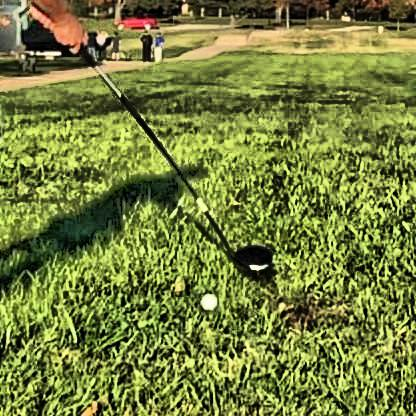golfball: (197, 290, 216, 309)
